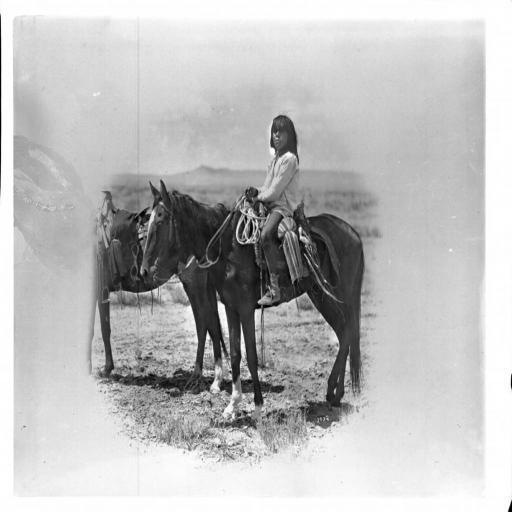horse: (138, 176, 364, 427), (82, 206, 231, 394)
